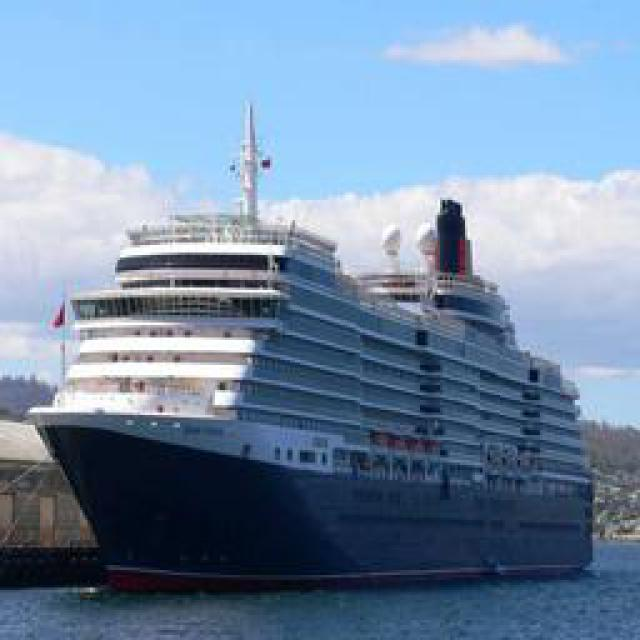Ship: (26, 136, 609, 596)
